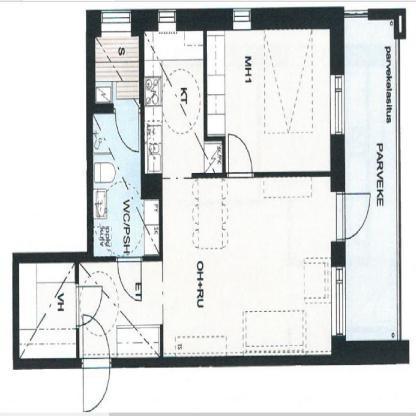door: (81, 314, 111, 413), (334, 192, 374, 242), (72, 284, 105, 330), (228, 132, 254, 182), (114, 108, 140, 156)
window: (336, 267, 345, 336), (335, 74, 343, 134), (101, 10, 130, 25), (159, 11, 176, 24), (235, 10, 252, 22)
zone: (163, 176, 332, 358), (343, 14, 400, 340), (223, 29, 331, 171), (144, 31, 223, 171), (96, 38, 144, 256), (78, 264, 161, 356), (18, 263, 76, 358), (144, 196, 160, 256)
